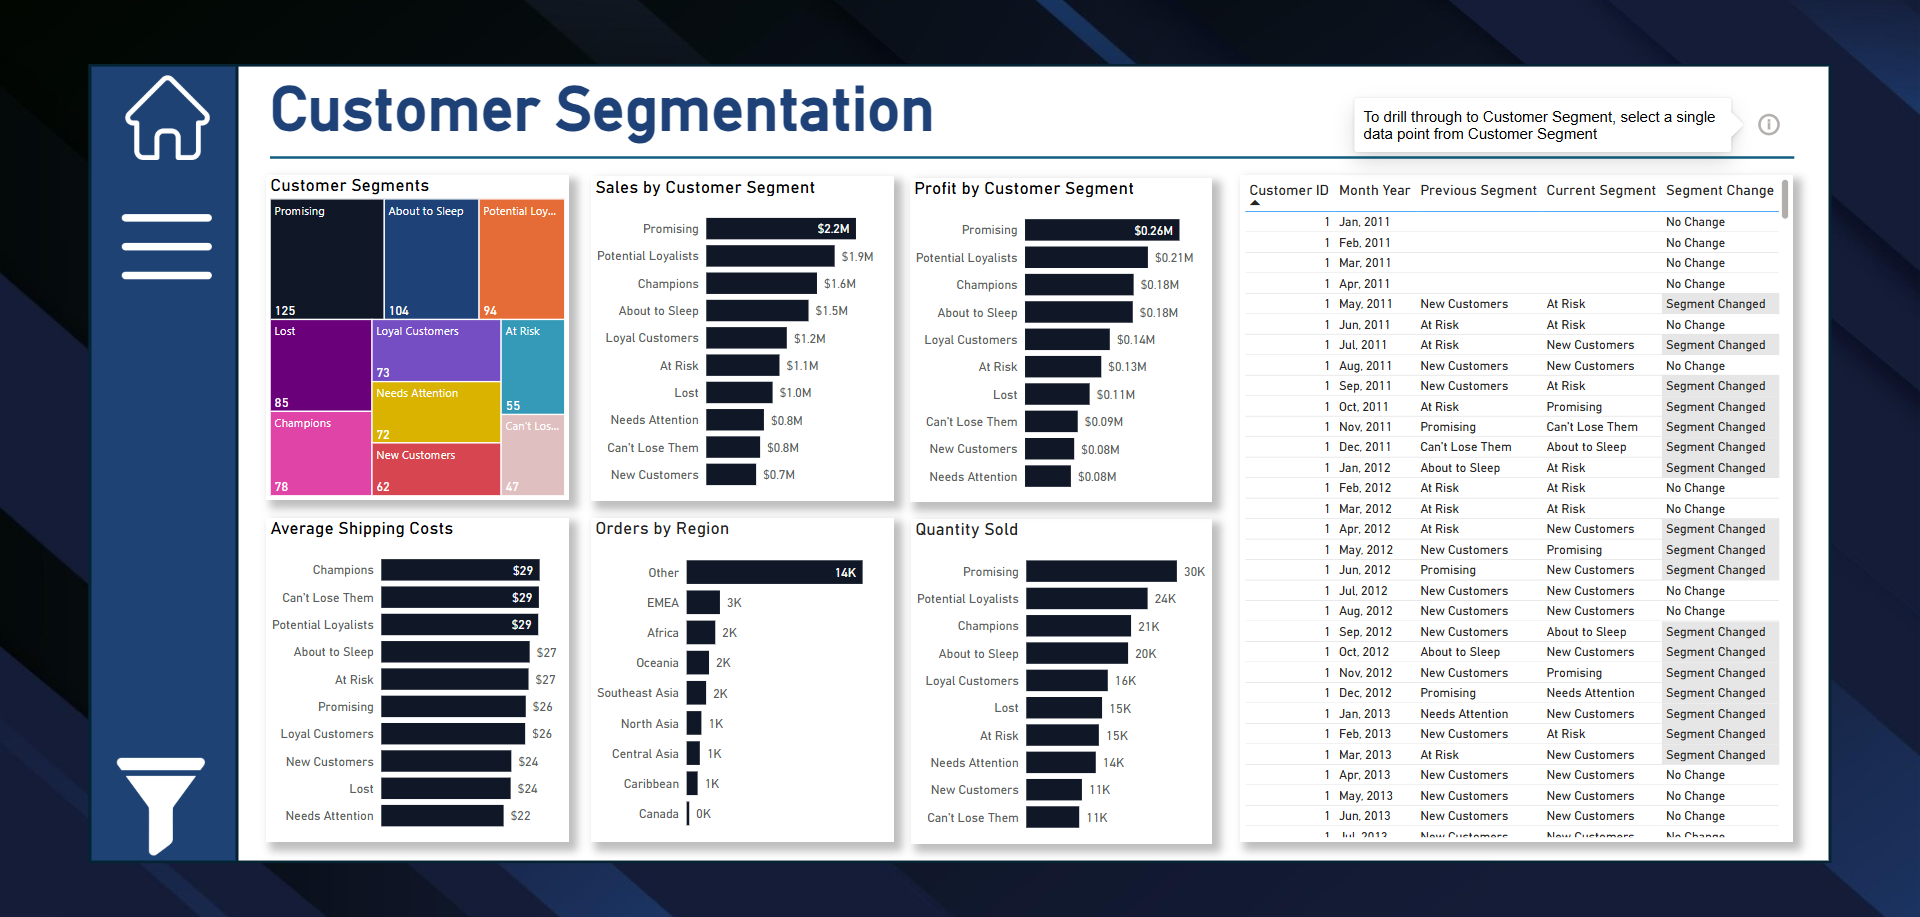

What the dashboard file says about the page in this screenshot:
{"tool":"powerbi","page":{"name":"Customer","canvas":[2250,1080],"ordinal":3},"visuals":[{"type":"barChart","fields":{"Category":["customer.Customer Segment"],"Y":["_Measures.Sales"]},"box":[692.8,207.2,354.6,380.4],"z":0},{"type":"barChart","title":"Orders by Region","fields":{"Category":["store.region"],"Y":["_Measures.Order Count"]},"box":[692.5,607.1,354.6,380.6],"z":1000},{"type":"treemap","title":"Customer Segments","fields":{"Values":["Count(customer.customer_id)"],"Group":["customer.Customer Segment"]},"box":[312,205,355,381],"z":2000},{"type":"barChart","fields":{"Category":["customer.Customer Segment"],"Y":["_Measures.Profit"]},"box":[1066.7,207.5,354.6,381],"z":3000},{"type":"barChart","title":"Quantity Sold","fields":{"Category":["customer.Customer Segment"],"Y":["_Measures.Quantity"]},"box":[1068.6,608.5,352.7,380.6],"z":4000},{"type":"barChart","title":"Average Shipping Costs","fields":{"Category":["customer.Customer Segment"],"Y":["_Measures.Avg Shipping Cost"]},"box":[312.4,606.2,354,380.4],"z":5000},{"type":"textbox","box":[312,81,827,97],"z":6000},{"type":"tableEx","fields":{"Values":["customer.customer_id","Date.Month Year Short","_Measures.PreviousSegment","_Measures.CurrentSegment","_Measures.SegmentChangeMeasure"]},"box":[1453.8,205.5,648.4,781.3],"z":7000},{"type":"actionButton","box":[2047.6,122.2,54.1,48.6],"z":8000},{"type":"image","box":[74.2,246.6,242.2,115.6],"z":9000},{"type":"image","box":[76.4,883.7,224.7,124.4],"z":10000},{"type":"image","box":[76.4,82.9,240,109.1],"z":11000}]}

Visuals, with their boxes on the page's 2250x1080 design canvas (x1, y1, x2, y2). These are canvas units, not pixel positions in the 1920x917 screenshot, which may show the page scaled, cropped or inside an application window:
barChart - customer.Customer Segment x _Measures.Sales: (693, 207, 1047, 588)
"Orders by Region" barChart: (692, 607, 1047, 988)
"Customer Segments" treemap: (312, 205, 667, 586)
barChart - customer.Customer Segment x _Measures.Profit: (1067, 208, 1421, 588)
"Quantity Sold" barChart: (1069, 608, 1421, 989)
"Average Shipping Costs" barChart: (312, 606, 666, 987)
textbox: (312, 81, 1139, 178)
tableEx - customer.customer_id x Date.Month Year Short: (1454, 206, 2102, 987)
actionButton: (2048, 122, 2102, 171)
image: (74, 247, 316, 362)
image: (76, 884, 301, 1008)
image: (76, 83, 316, 192)
